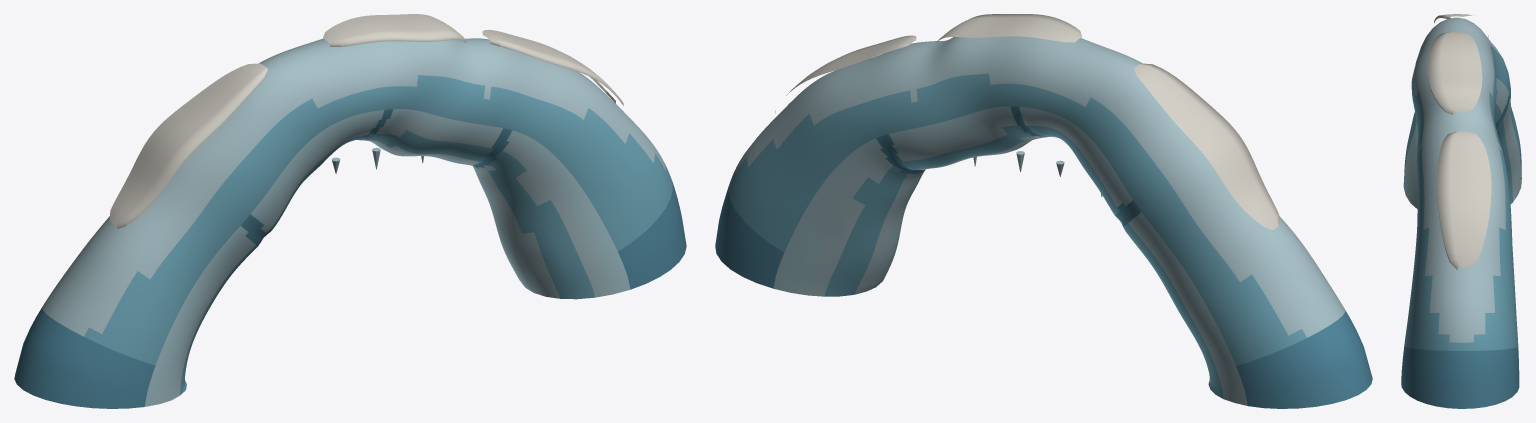
File: glacier_ice_arch_landmark_v1.glb
3 renders of one model, left to right at view 1: azimuth 30°, elevation 25°; view 2: azimuth 150°, elevation 25°; view 3: azimuth 270°, elevation 25°, orthographic. The views are drawn at different scales.
Parts seen in each view (by area): view 1: glacier_ice_arch_landmark_v1; view 2: glacier_ice_arch_landmark_v1; view 3: glacier_ice_arch_landmark_v1.
Part boxes in pixels (x1=…): glacier_ice_arch_landmark_v1: x1=14, y1=14, x2=686, y2=408; glacier_ice_arch_landmark_v1: x1=715, y1=14, x2=1372, y2=408; glacier_ice_arch_landmark_v1: x1=1401, y1=14, x2=1521, y2=408.
Bounding box in the file's own units: 34.02 × 15.18 × 6.58.
